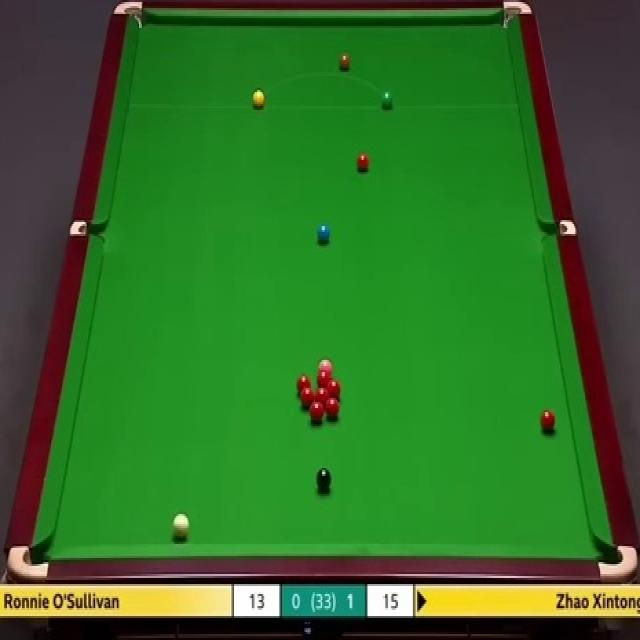black-ball: (316, 467, 332, 492)
blue-ball: (315, 222, 330, 244)
brown-ball: (339, 52, 351, 72)
green-ball: (380, 89, 393, 110)
pink-ball: (317, 356, 333, 370)
red-ball: (539, 408, 555, 433), (309, 401, 324, 423), (325, 398, 340, 420), (355, 152, 370, 173), (296, 373, 311, 392), (300, 388, 314, 408), (316, 369, 332, 386), (314, 388, 328, 406), (326, 380, 340, 398)
white-ball: (171, 512, 189, 540)
yellow-ball: (252, 88, 265, 109)
